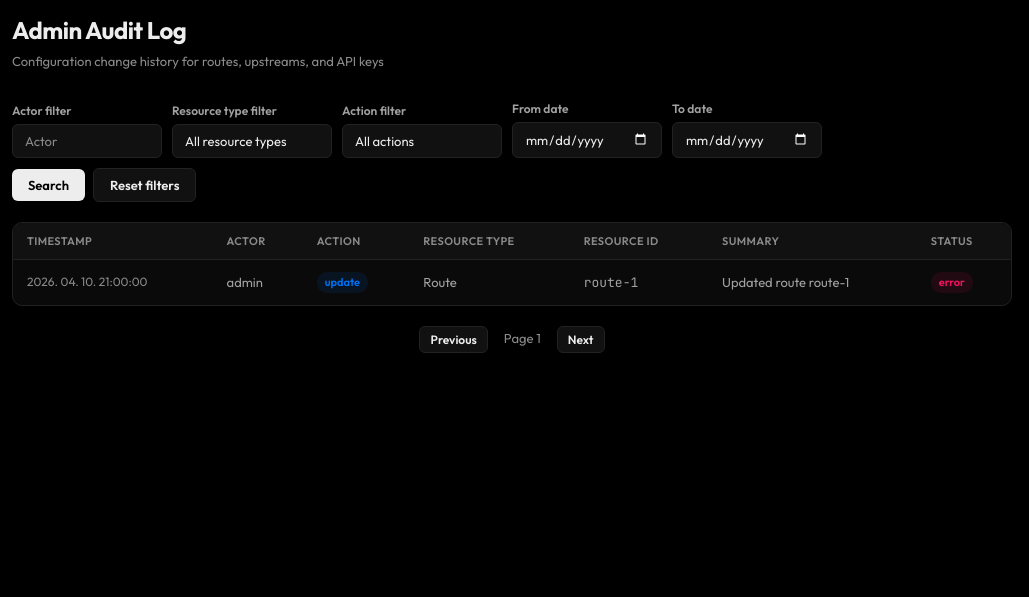
AdminAuditLogs › expands a row to show before/after JSON
Expected: the text "admin" is shown, [213,260,303,304]
Click the button with aria-label "Toggle details for admin audit log 1": (87, 282) [13,260,1011,304]
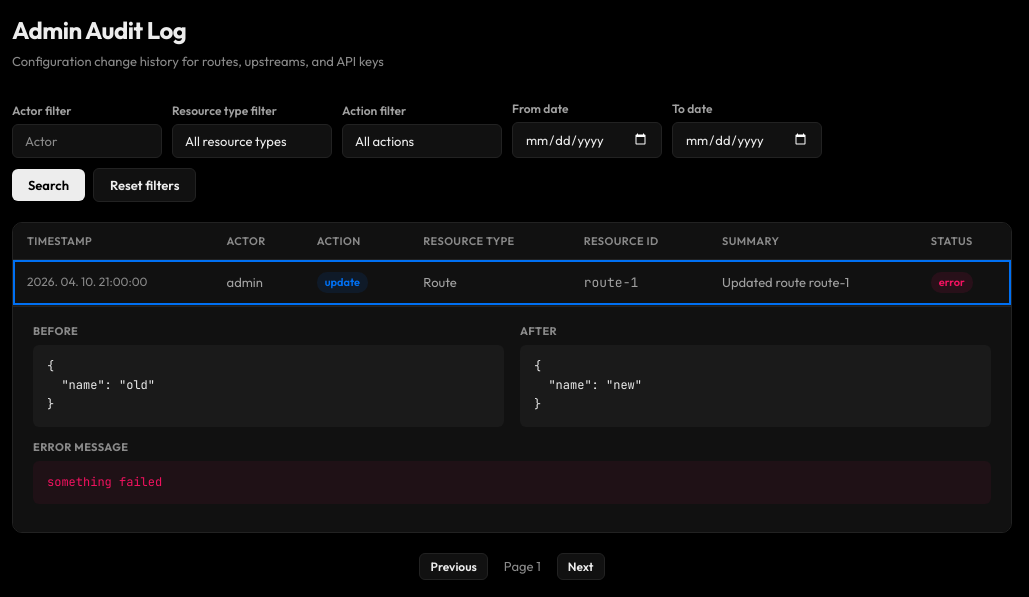
Now the heading "Before" is shown, box [33,324,78,338]
Now the heading "After" is shown, box [520,324,557,338]
Now the heading "Error Message" is shown, box [33,440,128,454]
